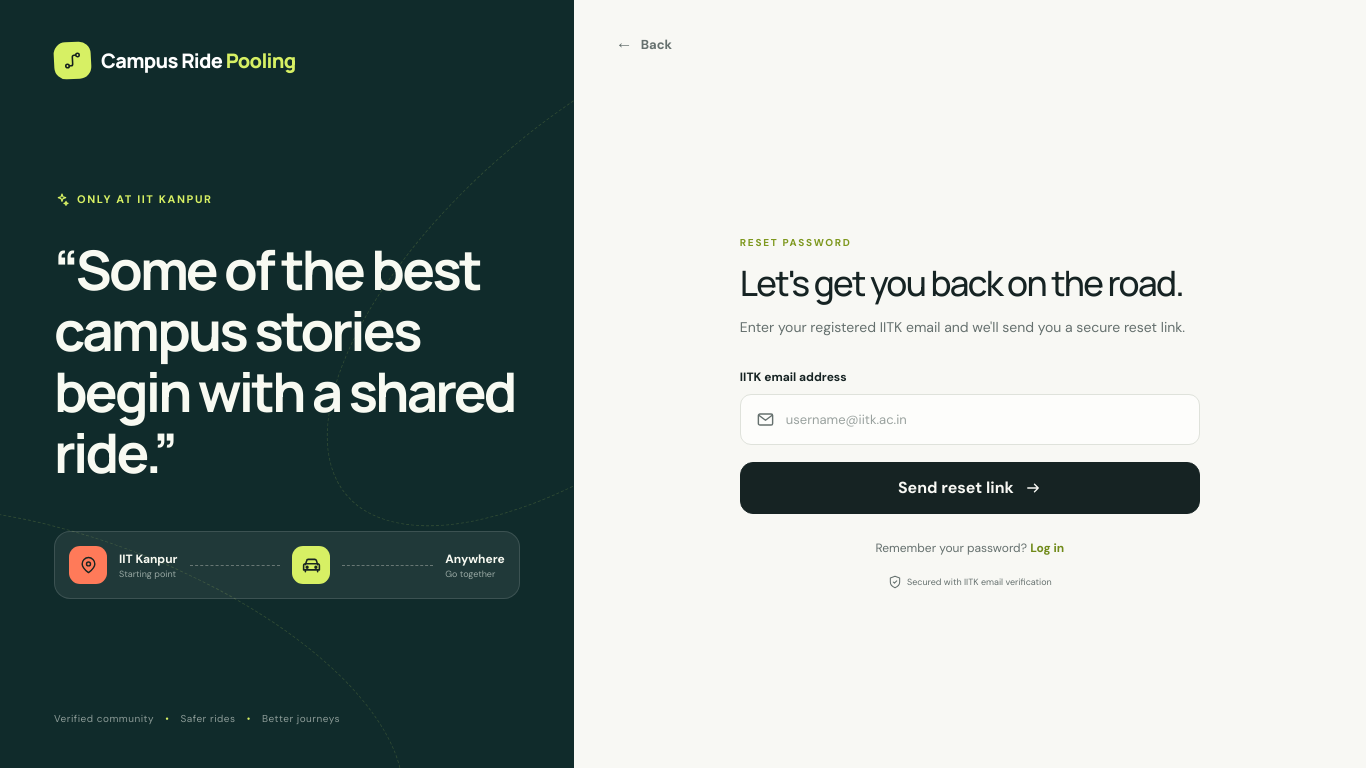
AuthPage › forgot › submits the email and tells the user to check their inbox
The image size is (1366, 768).
Type "a@iitk.ac.in" into the field with placeholder "username@iitk.ac.in" at (985, 420), box x1=786 y1=410 x2=1184 y2=430
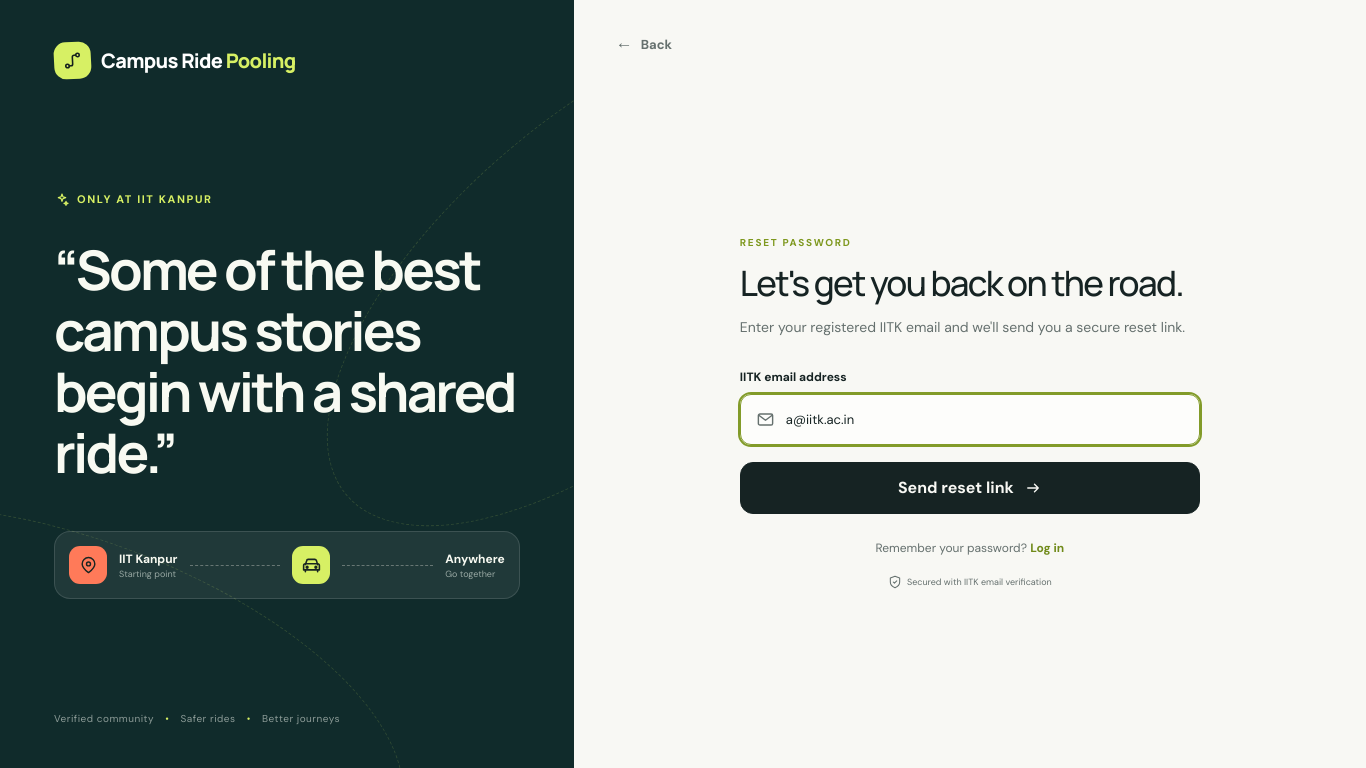
Click the button "Send reset link" at (970, 488), box x1=740 y1=462 x2=1200 y2=514
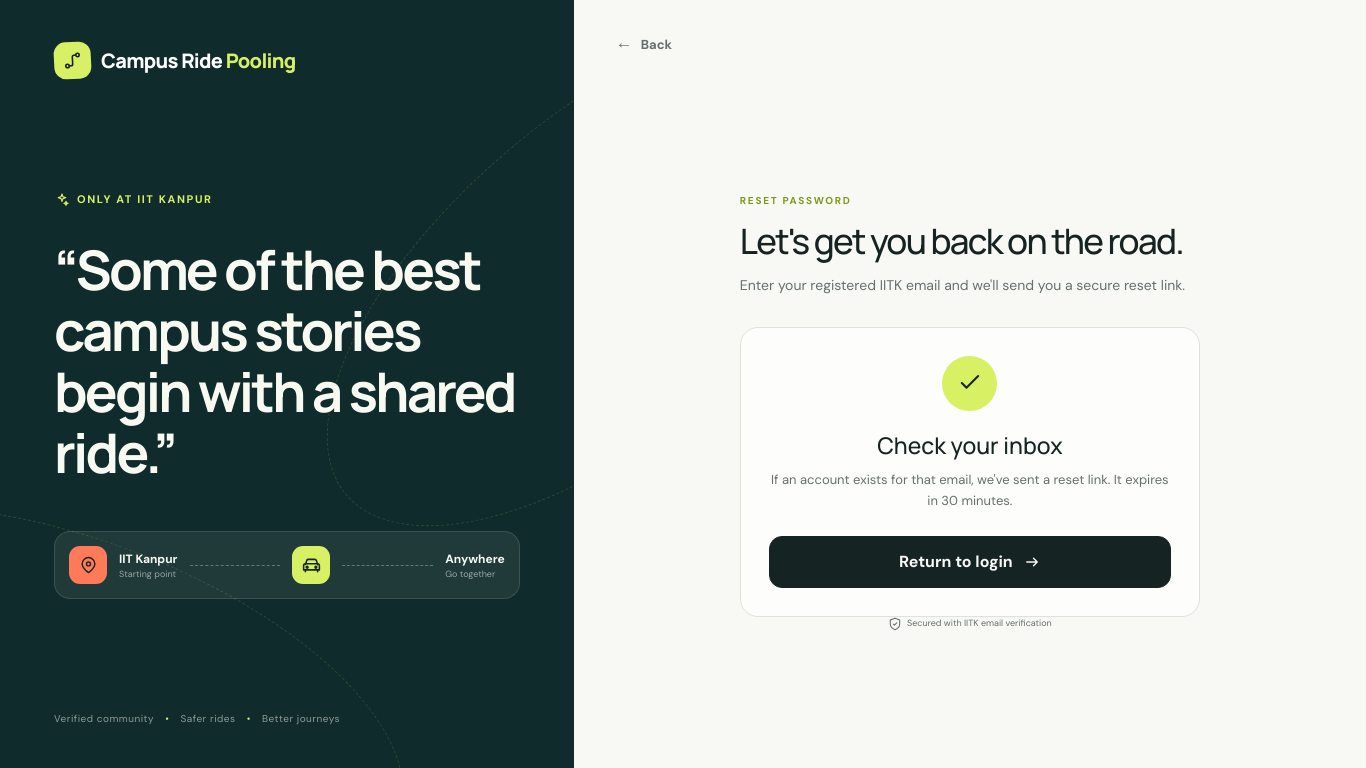
expect the heading "Check your inbox" is shown: met, box x1=877 y1=429 x2=1063 y2=461
